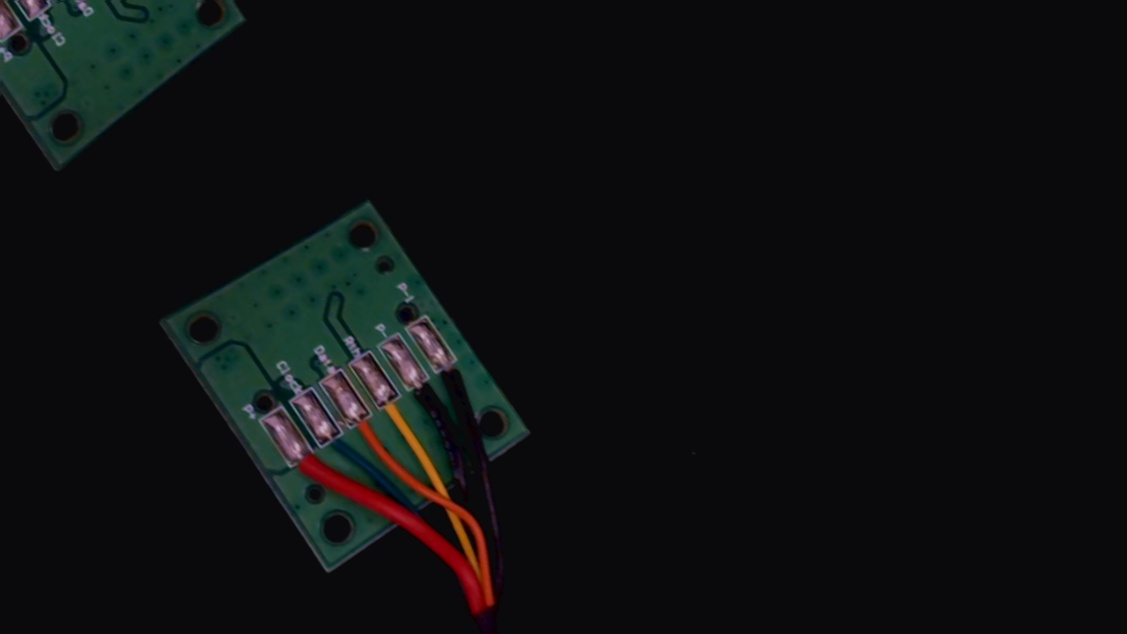Black: (393, 360, 454, 430)
Black1: (426, 343, 483, 408)
Green: (308, 413, 360, 472)
Orange: (337, 395, 397, 463)
Red: (279, 438, 332, 497)
Yellow: (365, 377, 427, 448)
